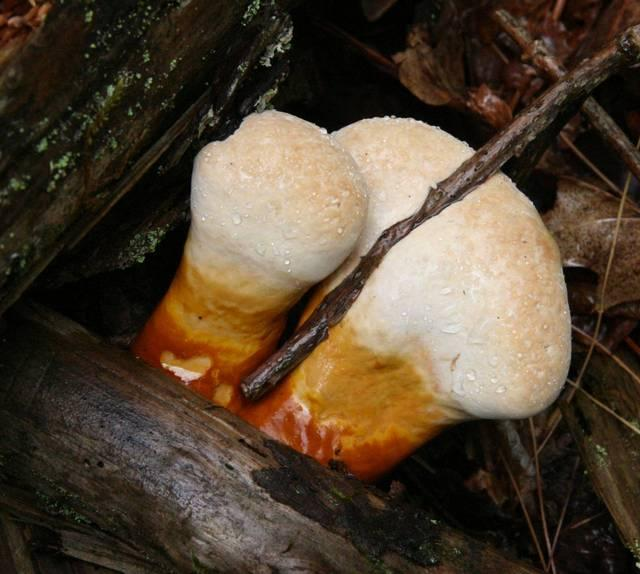Non-edible Mushroom: (235, 112, 573, 480), (130, 107, 369, 409)
